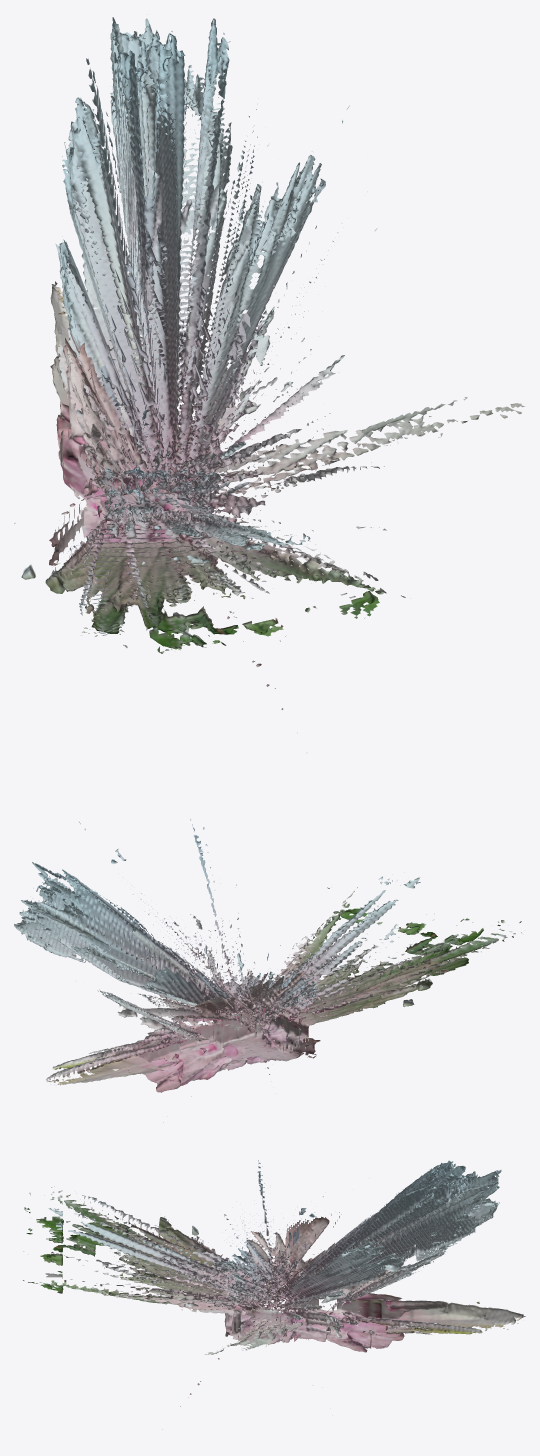
Rendered from lovecore-patio-1-1_collider.glb.
The picture shows the model from 3 angles, top to bottom: view 1: azimuth 30°, elevation 25°; view 2: azimuth 150°, elevation 25°; view 3: azimuth 270°, elevation 25°; orthographic projection. The views are drawn at different scales.
Visible parts, largest first — view 1: world; view 2: world; view 3: world.
Boxes of the visible parts, bbox=[...] form: world: bbox=[14, 17, 525, 709]; world: bbox=[14, 819, 521, 1122]; world: bbox=[23, 1160, 525, 1429].
Size of the model in its own units: 26.48 by 23.41 by 35.04.
